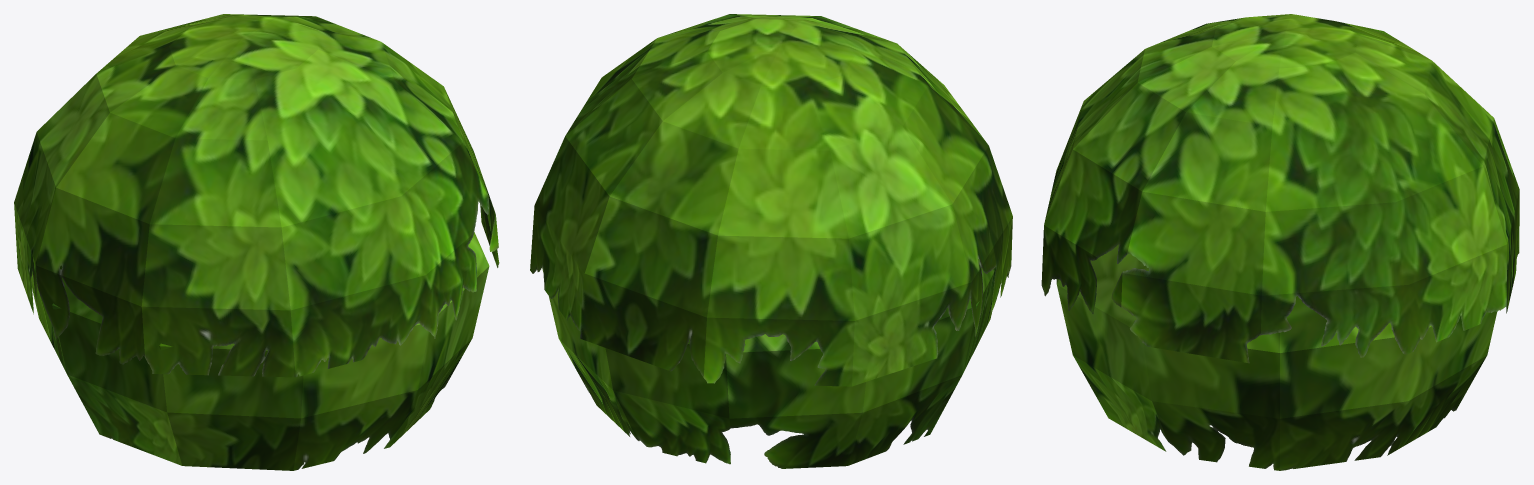
The model's file is Bush1_Mesh.fbx.
3 renders of one model, left to right at view 1: azimuth 30°, elevation 25°; view 2: azimuth 150°, elevation 25°; view 3: azimuth 270°, elevation 25°, orthographic.
Visible parts, largest first — view 1: Group3; view 2: Group3; view 3: Group3.
Part boxes in pixels (box(x1,y1,x2,y2)): Group3: box(14, 14, 499, 470); Group3: box(530, 14, 1012, 468); Group3: box(1041, 14, 1519, 470).
Bounding box in the file's own units: 201 × 163 × 197.
Materials: 1 (1 with a texture image).
